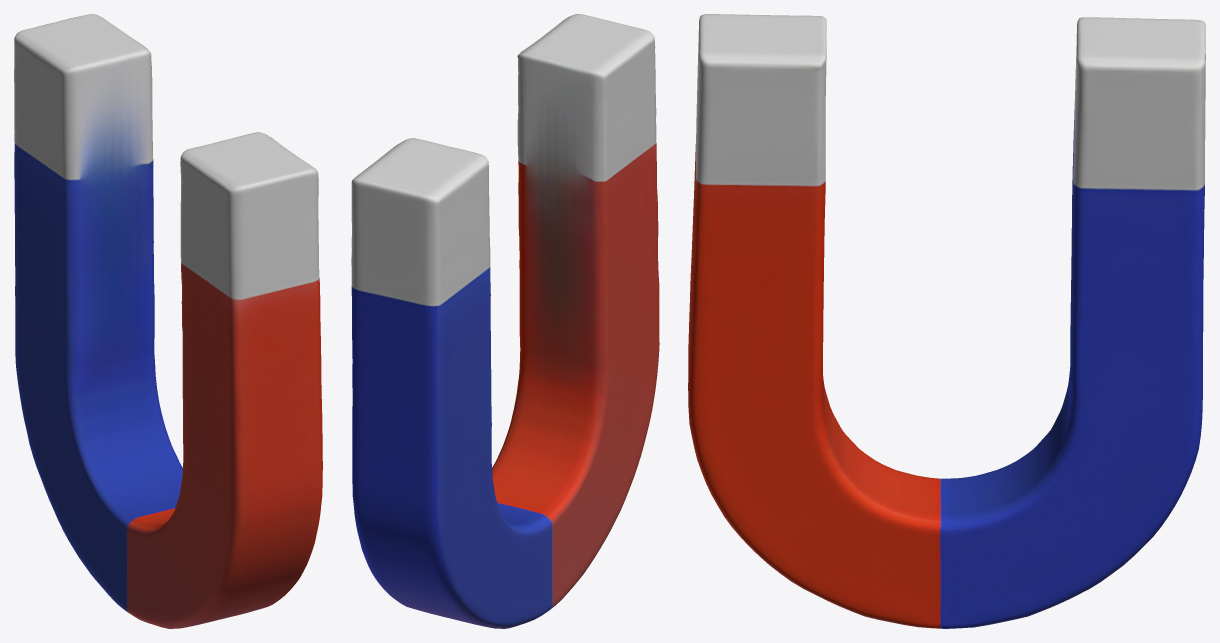
File: Imán.fbx
3 renders of one model, left to right at view 1: azimuth 30°, elevation 25°; view 2: azimuth 150°, elevation 25°; view 3: azimuth 270°, elevation 25°, orthographic. The views are drawn at different scales.
Parts seen in each view (by area): view 1: tripo_node_92e3798d; view 2: tripo_node_92e3798d; view 3: tripo_node_92e3798d.
Part boxes in pixels (box(x1,y1,x2,y2)): tripo_node_92e3798d: box(14, 14, 322, 628); tripo_node_92e3798d: box(351, 14, 659, 628); tripo_node_92e3798d: box(688, 14, 1205, 628).
Size of the model in its own units: 0.185 by 0.9996 by 0.8185.
Materials: 1 (1 with a texture image).
